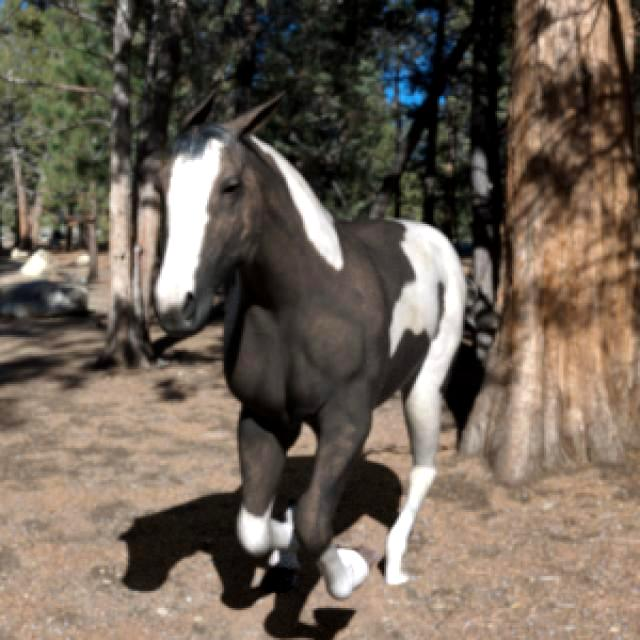horse: (155, 98, 465, 598)
